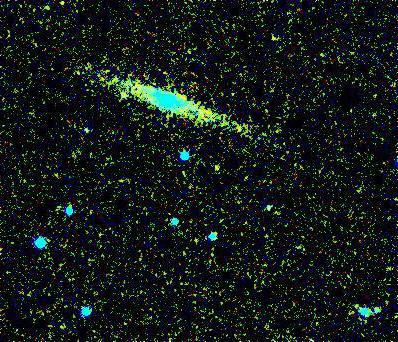star: (203, 154, 233, 184)
